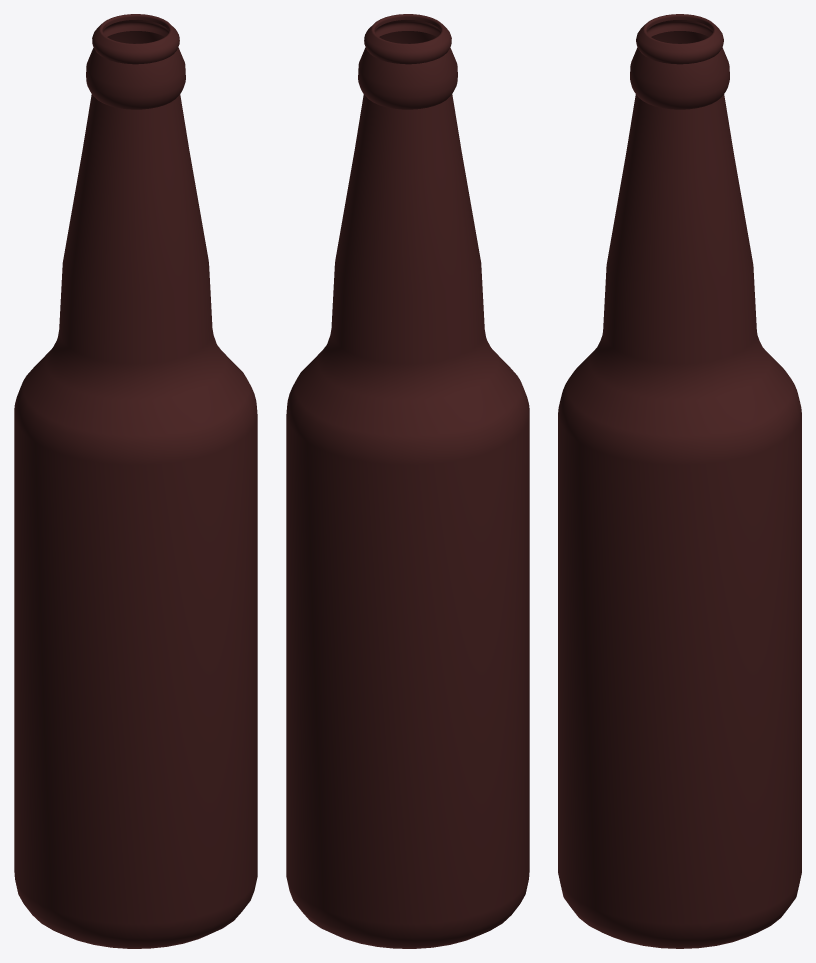
Rendered from empty_beer_bottle.fbx.
The picture shows the model from 3 angles, left to right: view 1: azimuth 30°, elevation 25°; view 2: azimuth 150°, elevation 25°; view 3: azimuth 270°, elevation 25°; orthographic projection.
Parts seen in each view (by area): view 1: Cylinder; view 2: Cylinder; view 3: Cylinder.
Part boxes in pixels (x1=…): Cylinder: x1=14, y1=14, x2=257, y2=948; Cylinder: x1=286, y1=14, x2=529, y2=948; Cylinder: x1=558, y1=14, x2=801, y2=948.
Size of the model in its own units: 93.58 by 373 by 93.58.
1 material, 1 textured.
